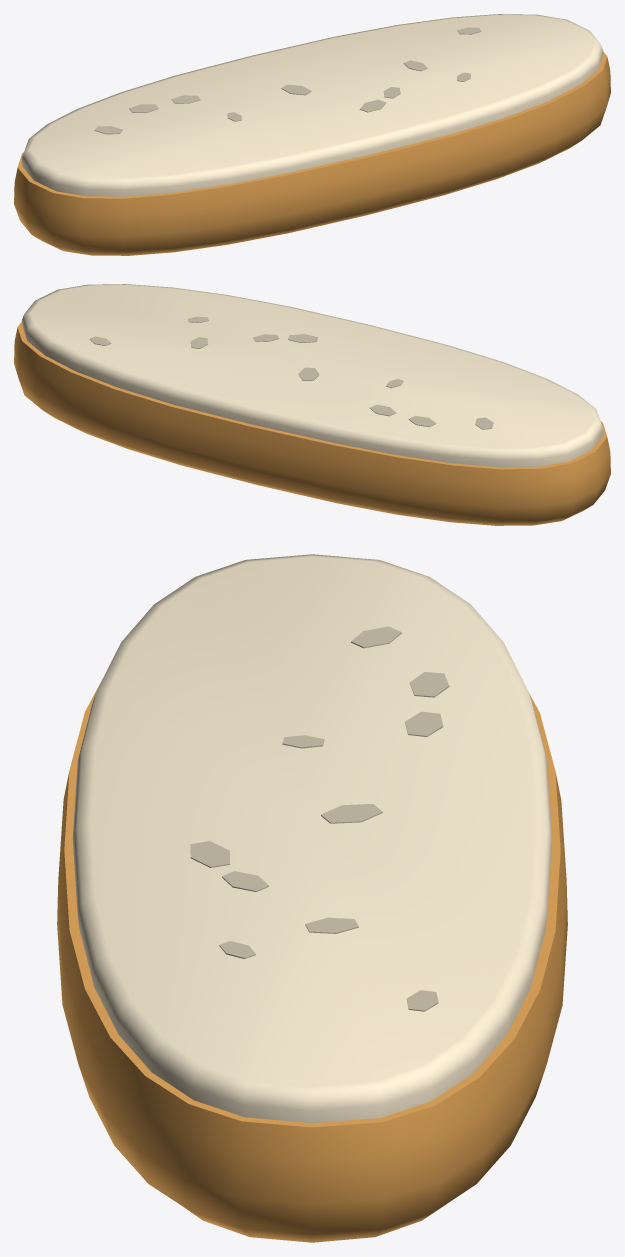
The model's file is Food_WhiteSub_Bottom.fbx.
3 renders of one model, top to bottom at view 1: azimuth 30°, elevation 25°; view 2: azimuth 150°, elevation 25°; view 3: azimuth 270°, elevation 25°, orthographic. The views are drawn at different scales.
Parts seen in each view (by area): view 1: Crumb, Crust, Pores; view 2: Crumb, Crust, Pores; view 3: Crumb, Crust, Pores.
Boxes of the visible parts, <box> form: Crumb: <box>21,14,603,196</box>; Crust: <box>14,51,610,255</box>; Pores: <box>94,27,481,134</box>; Crumb: <box>21,284,603,467</box>; Crust: <box>14,322,610,525</box>; Pores: <box>89,316,493,429</box>; Crumb: <box>72,554,552,1123</box>; Crust: <box>57,679,567,1242</box>; Pores: <box>190,626,449,1011</box>.
Size of the model in its own units: 220 by 30.49 by 85.
